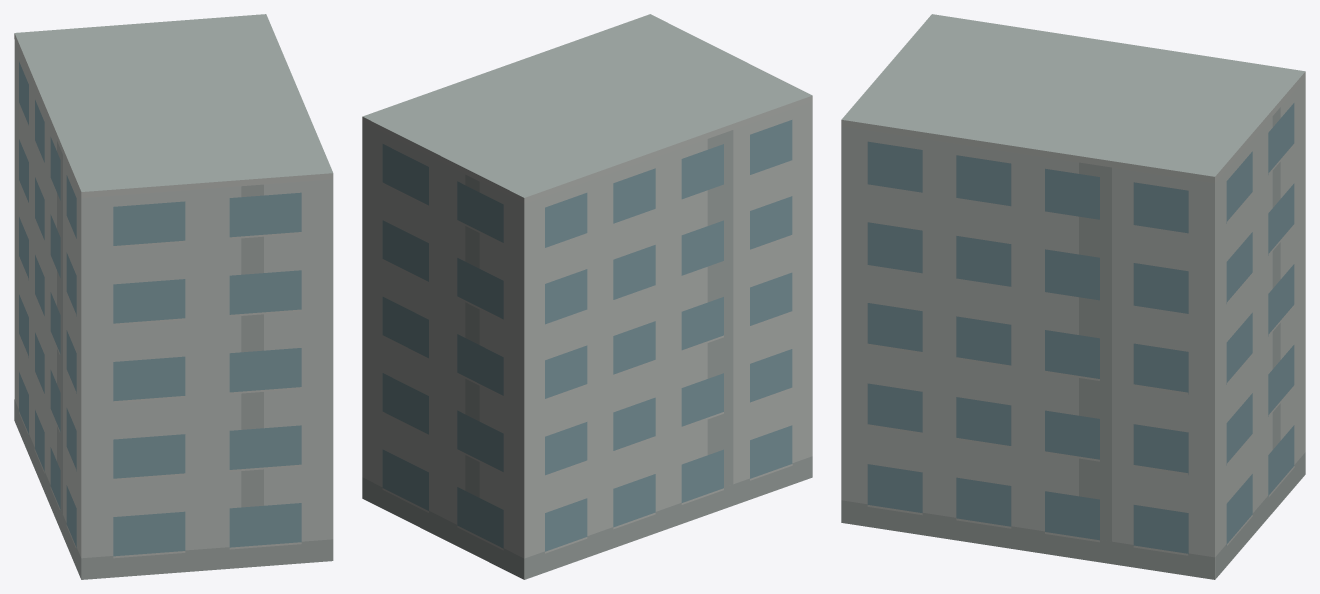
File: residential-5ba3929d-5cde-447f-b2e9-8c9871fb1fdc.glb
3 views of the same model, side by side, from view 1: azimuth 30°, elevation 25°; view 2: azimuth 150°, elevation 25°; view 3: azimuth 270°, elevation 25° (orthographic). The views are drawn at different scales.
Parts seen in each view (by area): view 1: residential-5ba3929d-5cde-447f-b2e9-8c9871fb1fdc.tmp; view 2: residential-5ba3929d-5cde-447f-b2e9-8c9871fb1fdc.tmp; view 3: residential-5ba3929d-5cde-447f-b2e9-8c9871fb1fdc.tmp.
Part boxes in pixels (x1,y1,x2,y2): residential-5ba3929d-5cde-447f-b2e9-8c9871fb1fdc.tmp: (14, 14, 333, 579); residential-5ba3929d-5cde-447f-b2e9-8c9871fb1fdc.tmp: (362, 14, 812, 579); residential-5ba3929d-5cde-447f-b2e9-8c9871fb1fdc.tmp: (841, 14, 1305, 579).
Size of the model in its own units: 13.22 by 15.25 by 15.93.
